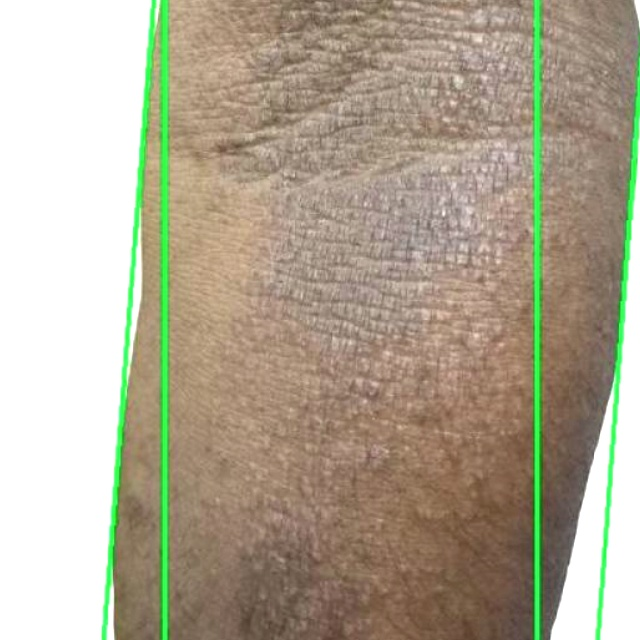Eczema: (104, 0, 639, 639)
